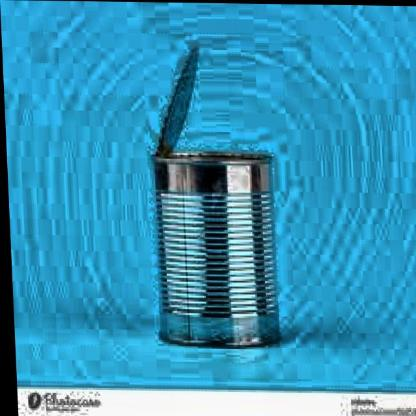Can: (144, 36, 284, 356)
